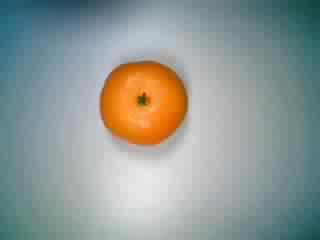orange: (96, 54, 191, 148)
